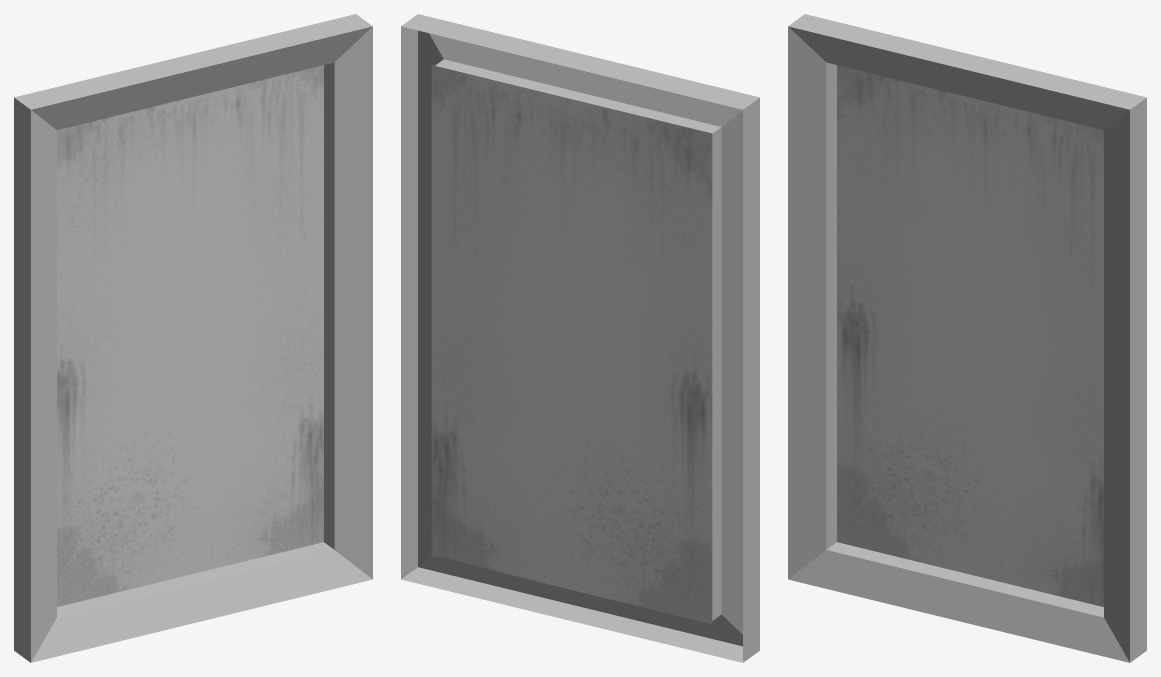
File: SM_Mirror_Old.fbx
The picture shows the model from 3 angles, left to right: view 1: azimuth 30°, elevation 25°; view 2: azimuth 150°, elevation 25°; view 3: azimuth 330°, elevation 25°; orthographic projection.
Visible parts, largest first — view 1: SM_Mirror, SM_Mirror_Old; view 2: SM_Mirror, SM_Mirror_Old; view 3: SM_Mirror, SM_Mirror_Old.
Boxes of the visible parts, box(x1,y1,x2,y2) form: SM_Mirror: box(57, 65, 323, 606); SM_Mirror_Old: box(14, 14, 372, 662); SM_Mirror: box(431, 65, 712, 623); SM_Mirror_Old: box(401, 14, 759, 662); SM_Mirror: box(837, 65, 1103, 606); SM_Mirror_Old: box(788, 14, 1146, 662).
Size of the model in its own units: 0.55 by 0.85 by 0.0471.
